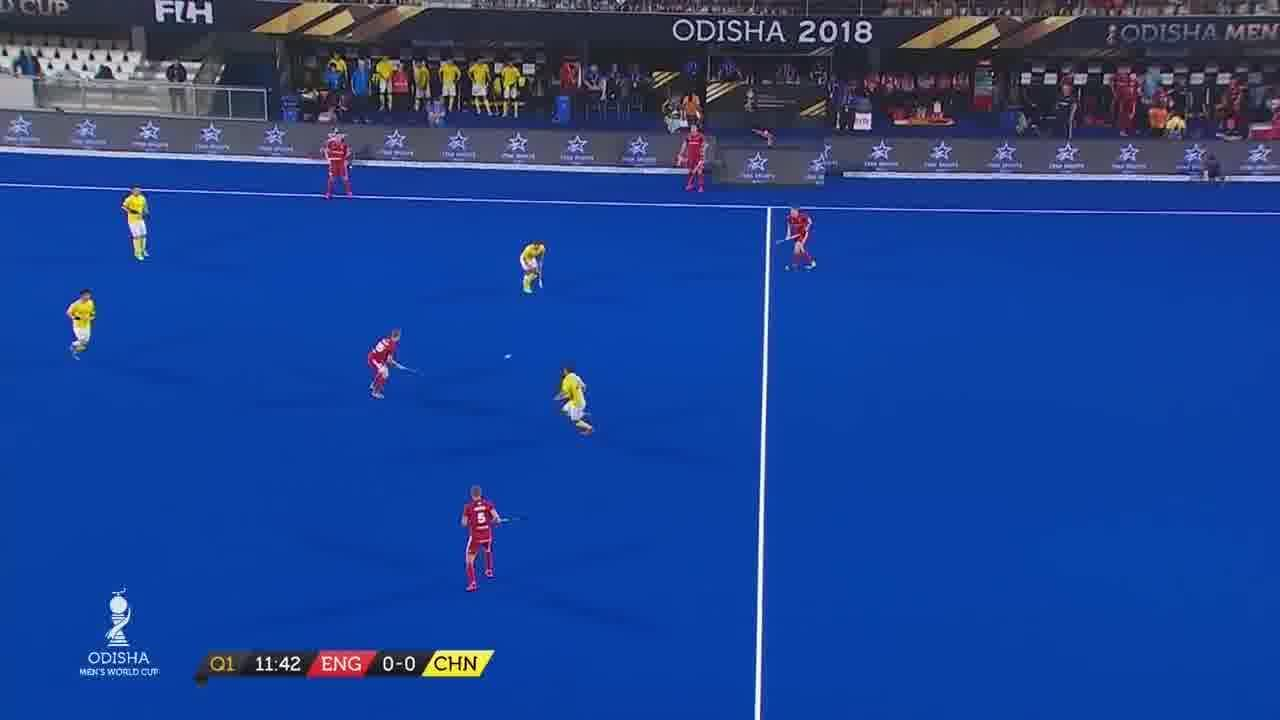ball: (496, 342, 522, 369)
